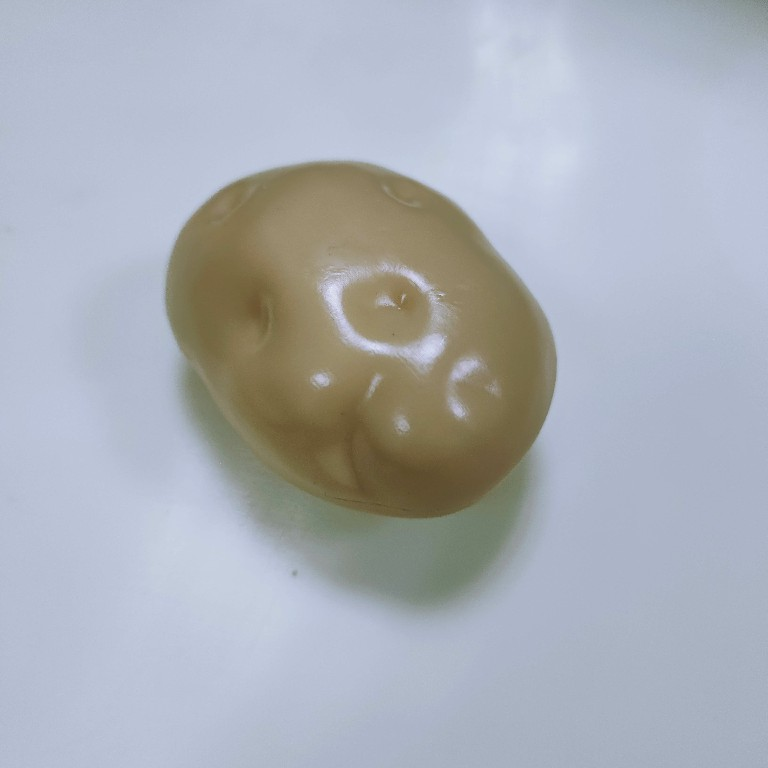fruit_potato: (159, 153, 563, 525)
